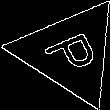P_NE: (36, 25, 104, 80)
